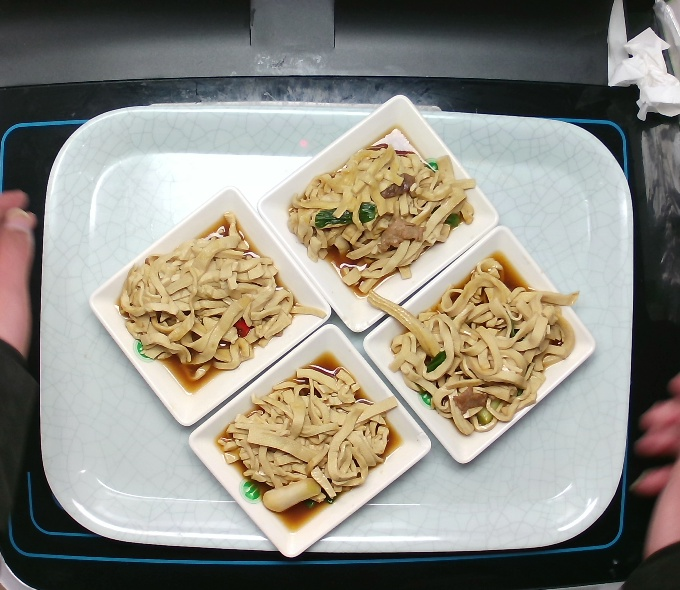wcq-QianZhang: (107, 213, 299, 396), (286, 117, 478, 300), (381, 251, 573, 434), (205, 345, 397, 528)
